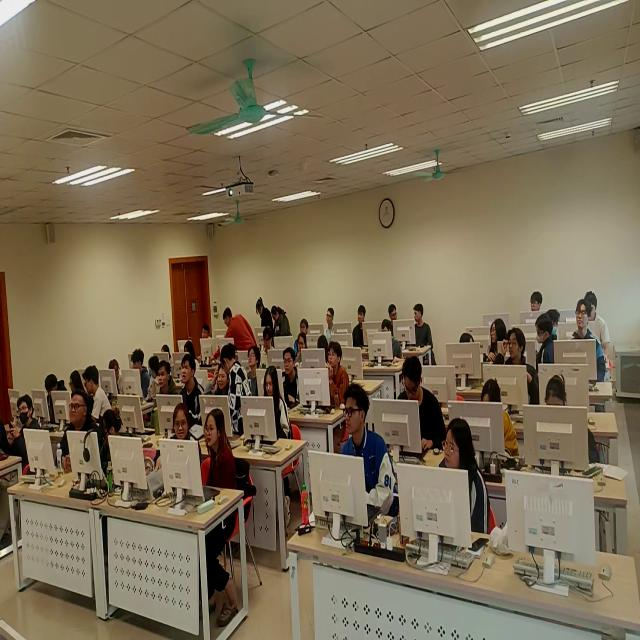raise_head: (339, 383, 399, 524), (437, 415, 490, 541), (54, 390, 102, 474), (570, 297, 609, 384), (505, 329, 540, 405), (264, 367, 293, 442), (324, 341, 351, 410), (180, 355, 204, 426), (282, 346, 303, 408), (248, 346, 265, 396), (157, 359, 178, 399), (351, 304, 368, 349), (217, 362, 231, 397), (326, 306, 336, 341), (299, 317, 311, 336), (202, 321, 212, 343)
stand: (220, 343, 253, 437), (223, 306, 258, 353)
using_computer: (396, 354, 448, 452), (480, 377, 520, 465), (584, 289, 612, 360), (102, 409, 132, 474), (545, 372, 570, 414), (381, 319, 405, 362), (260, 327, 275, 371), (297, 331, 310, 368), (185, 340, 200, 369), (317, 333, 330, 364), (162, 343, 173, 366)
using_phone: (1, 395, 45, 551)
